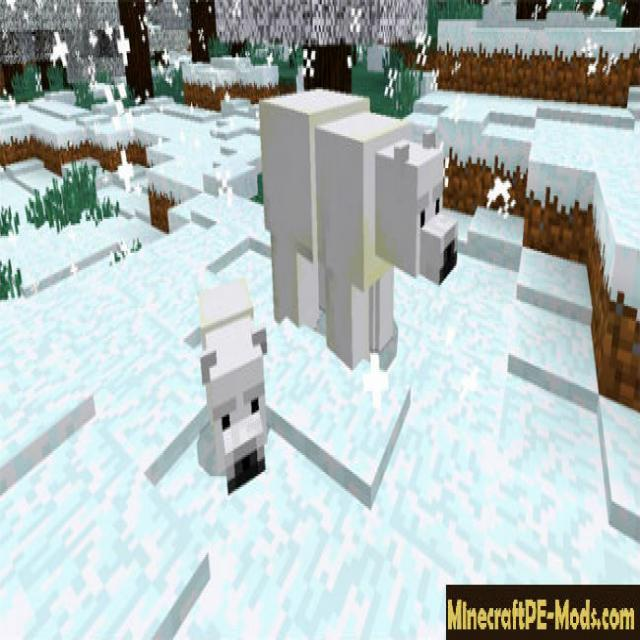Polar Bear: (254, 84, 462, 375), (196, 274, 272, 493)
